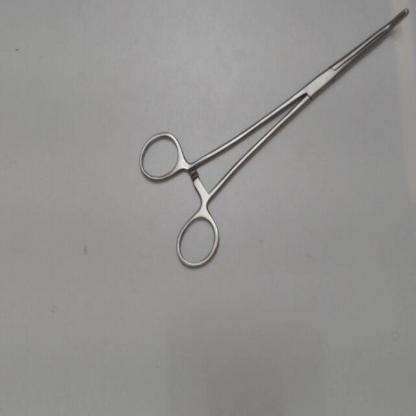Lahey Forceps: (134, 2, 413, 276)
